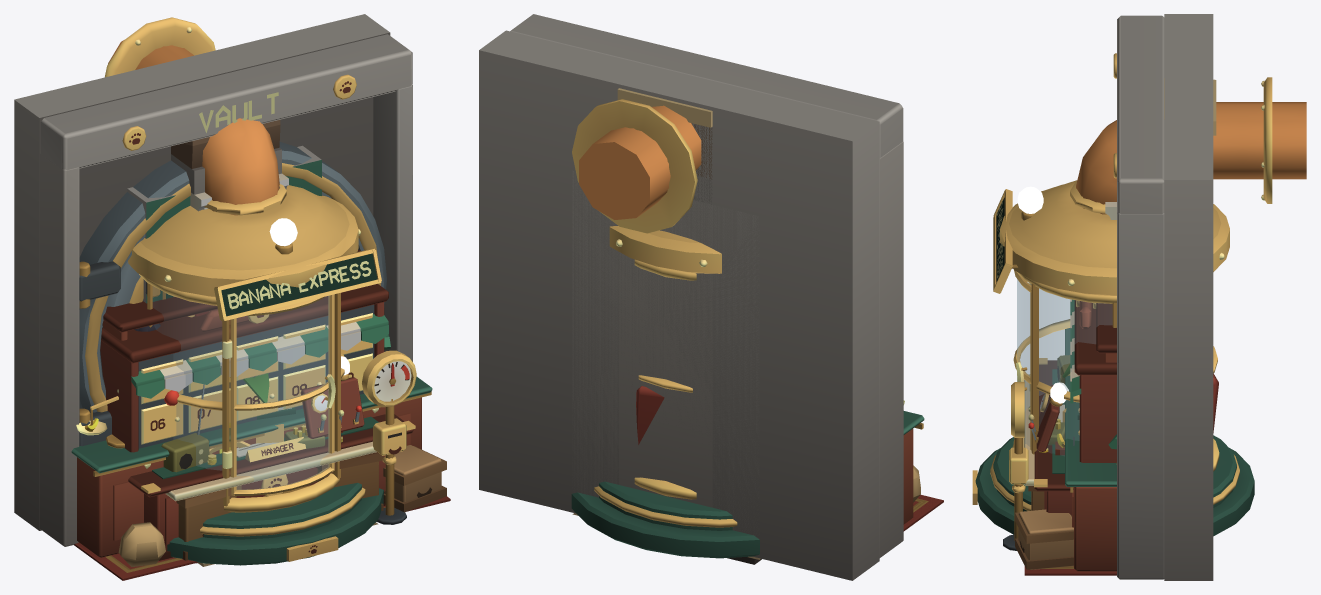
The model's file is vault.glb.
3 views of the same model, side by side, from view 1: azimuth 30°, elevation 25°; view 2: azimuth 150°, elevation 25°; view 3: azimuth 270°, elevation 25° (orthographic). The views are drawn at different scales.
Parts seen in each view (by area): view 1: vault_door_round__matte, vault_pod__gloss, pod_door_glass, fac_fence__matte, fac_stash__matte, vault_pod__matte, fac_sal__matte, fac_desk__matte, fac_stash__gloss, pod_glass, vault_door_round__gloss, fac_med__matte (+8 smaller); view 2: vault_door_round__matte, vault_pod__gloss, vault_wall__matte, vault_pilaster__matte, vault_wall_corner__matte, vault_pod__matte, vault_wall_cap__matte, fac_fence__matte, fac_desk__matte; view 3: vault_door_round__matte, vault_pod__gloss, fac_fence__matte, pod_glass, vault_pod__matte, fac_stash__matte, fac_desk__matte, fac_sal__matte, pod_door_glass, fac_trophy__matte, fac_generator__matte, pod_door (+2 smaller).
Part boxes in pixels (x1,y1,x2,y2): vault_door_round__matte: (14, 14, 412, 546); vault_pod__gloss: (105, 17, 416, 561); pod_door_glass: (237, 296, 329, 489); fac_fence__matte: (71, 335, 447, 580); fac_stash__matte: (100, 284, 388, 452); vault_pod__matte: (167, 253, 409, 565); fac_sal__matte: (161, 384, 383, 560); fac_desk__matte: (74, 414, 450, 580); fac_stash__gloss: (141, 313, 372, 444); pod_glass: (153, 286, 221, 470); vault_door_round__gloss: (79, 74, 380, 423); fac_med__matte: (131, 314, 388, 398); vault_door_round__matte: (479, 14, 903, 580); vault_pod__gloss: (572, 99, 737, 527); vault_wall__matte: (572, 171, 759, 557); vault_pilaster__matte: (619, 201, 712, 507); vault_wall_corner__matte: (572, 170, 665, 511); vault_pod__matte: (571, 481, 759, 558); vault_wall_cap__matte: (617, 88, 712, 204); fac_fence__matte: (903, 411, 940, 525); fac_desk__matte: (636, 386, 943, 531); vault_door_round__matte: (1117, 14, 1213, 580); vault_pod__gloss: (972, 77, 1306, 540); fac_fence__matte: (1015, 328, 1116, 571); pod_glass: (1039, 288, 1112, 455); vault_pod__matte: (975, 197, 1254, 550); fac_stash__matte: (1074, 300, 1116, 462); fac_desk__matte: (1024, 360, 1218, 575); fac_sal__matte: (1024, 355, 1074, 510); pod_door_glass: (1017, 279, 1031, 447); fac_trophy__matte: (1096, 303, 1116, 362); fac_generator__matte: (1028, 385, 1059, 452); pod_door: (1013, 270, 1031, 450).
Bounding box in the file's own units: 4 × 5.15 × 3.4.
